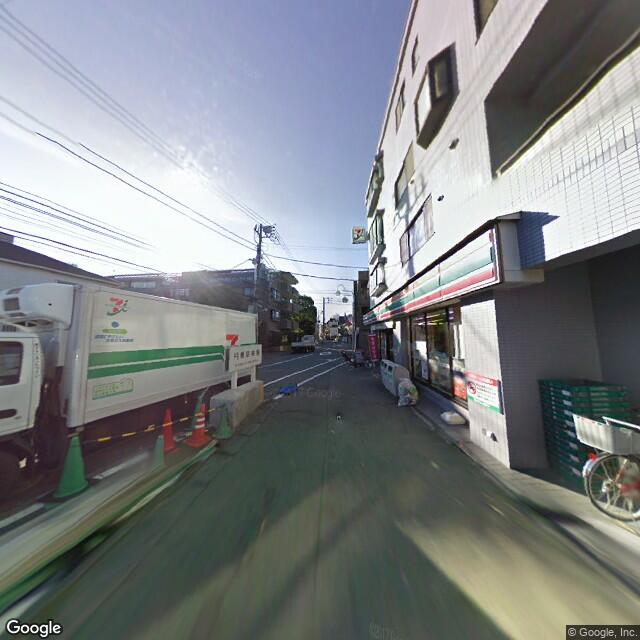7-eleven: (363, 224, 502, 329), (104, 290, 130, 320), (218, 332, 243, 356), (350, 221, 365, 248)
